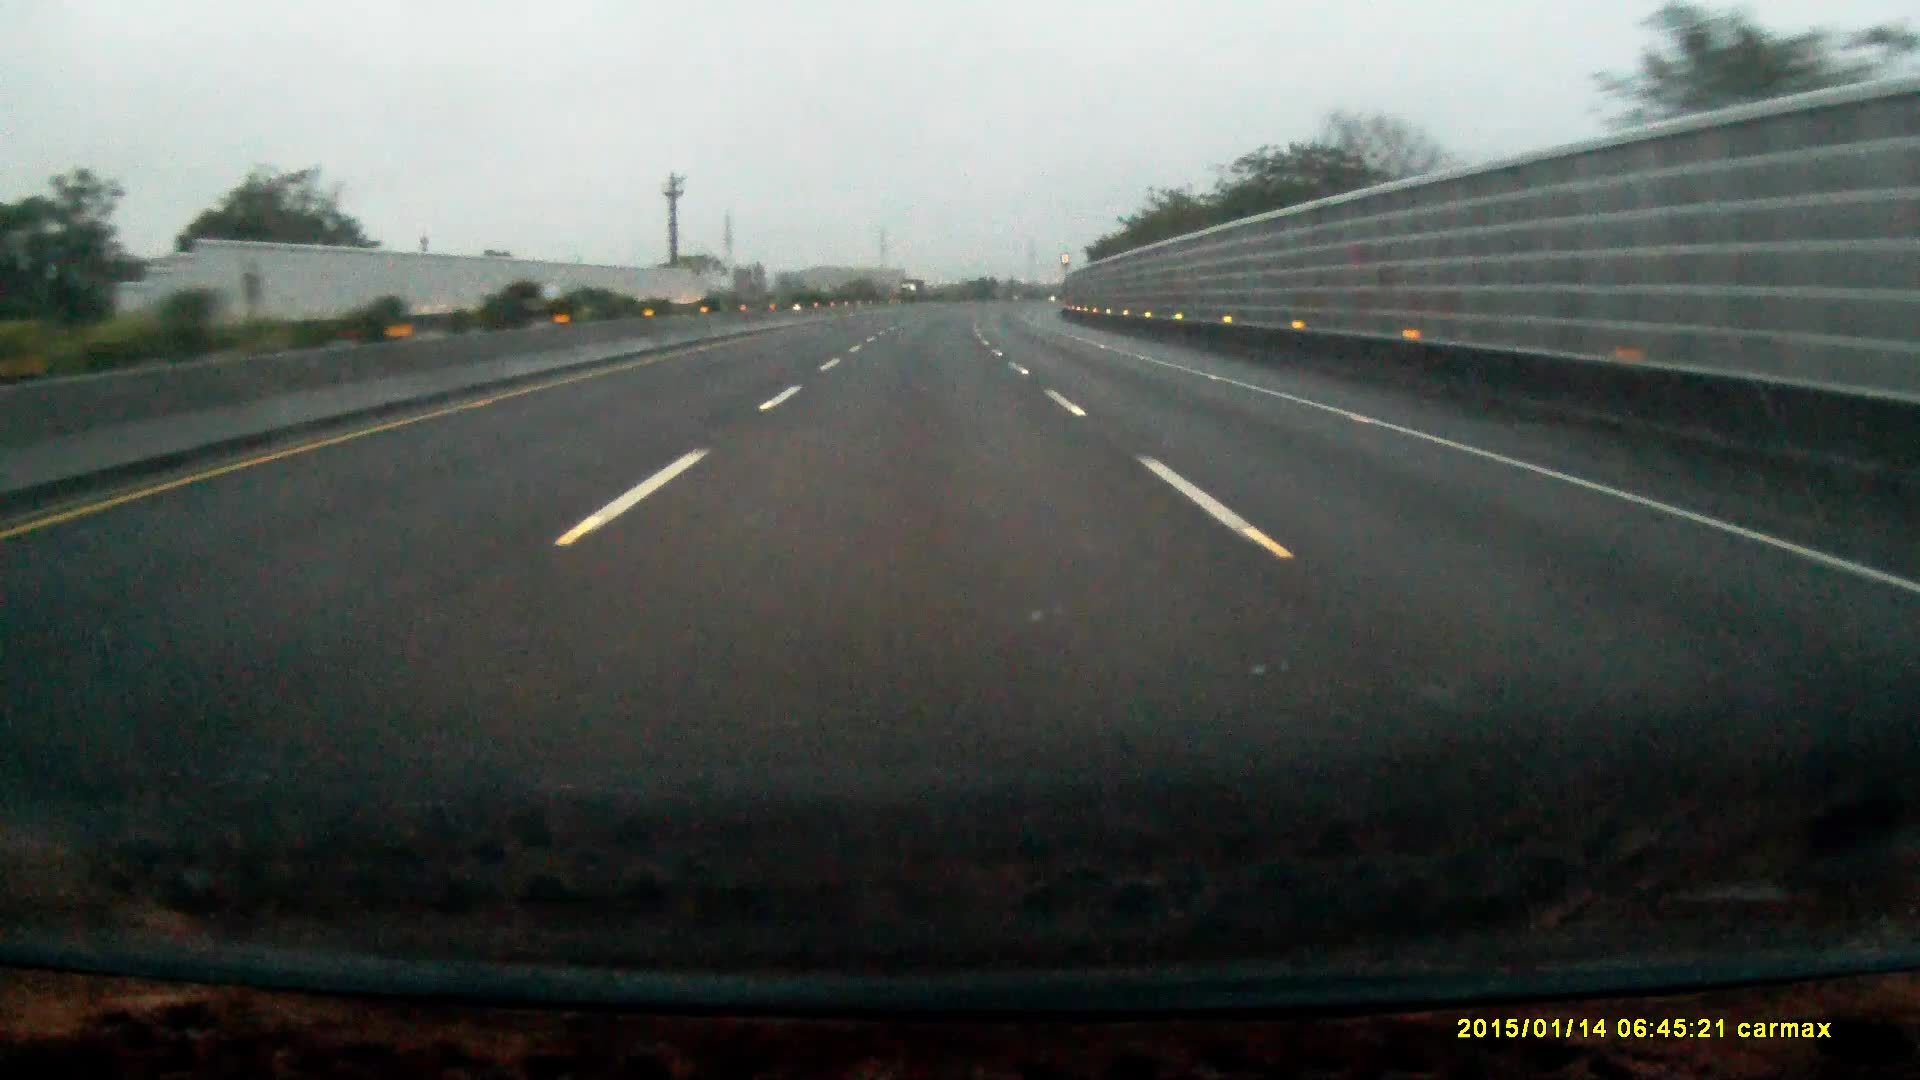vehicle: (899, 280, 924, 303)
